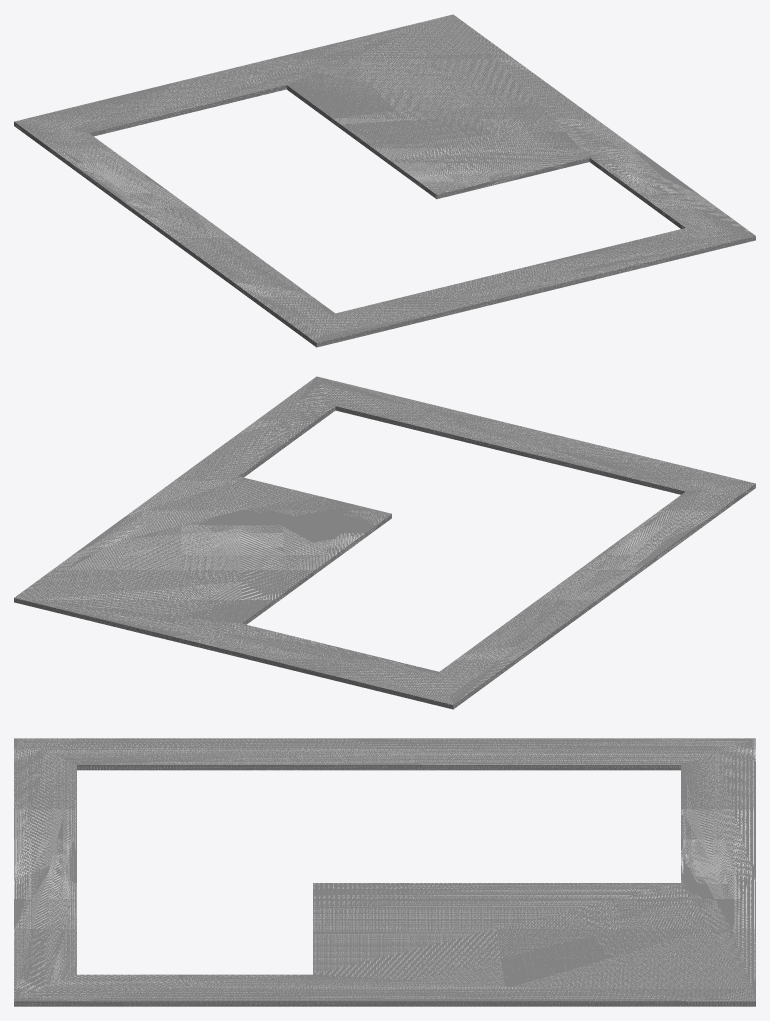
The model's file is Floor3.dae.
The picture shows the model from 3 angles, top to bottom: view 1: azimuth 30°, elevation 25°; view 2: azimuth 150°, elevation 25°; view 3: azimuth 270°, elevation 25°; orthographic projection. The views are drawn at different scales.
Parts seen in each view (by area): view 1: SketchUp (×2); view 2: SketchUp (×2); view 3: SketchUp (×2).
Part boxes in pixels (left/top/right/bottom): SketchUp (×2): left=14, top=14, right=755, bottom=347; SketchUp (×2): left=14, top=376, right=755, bottom=709; SketchUp (×2): left=14, top=738, right=755, bottom=1006.
Bounding box in the file's own units: 407 × 486 × 3.94.
Materials: 2 (1 with a texture image).
